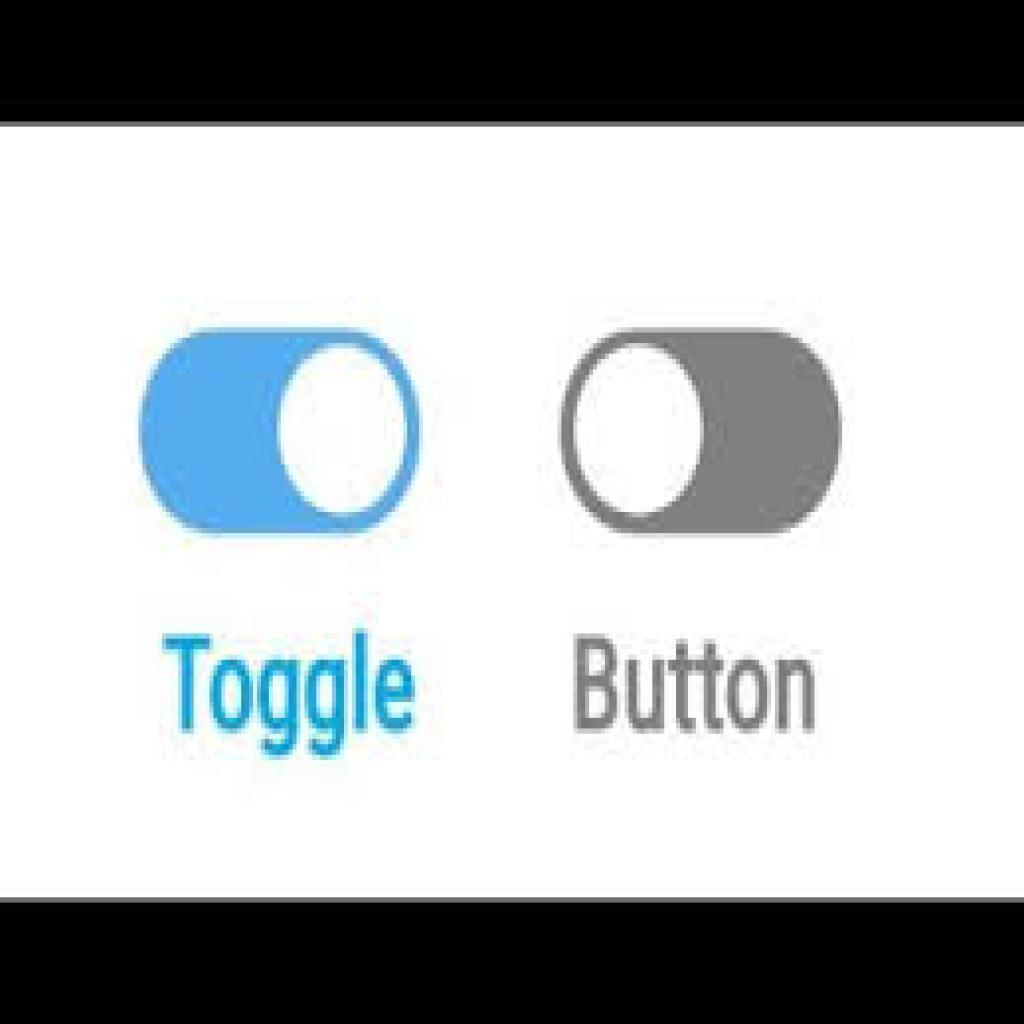switch: (136, 312, 432, 546), (550, 319, 850, 548)
